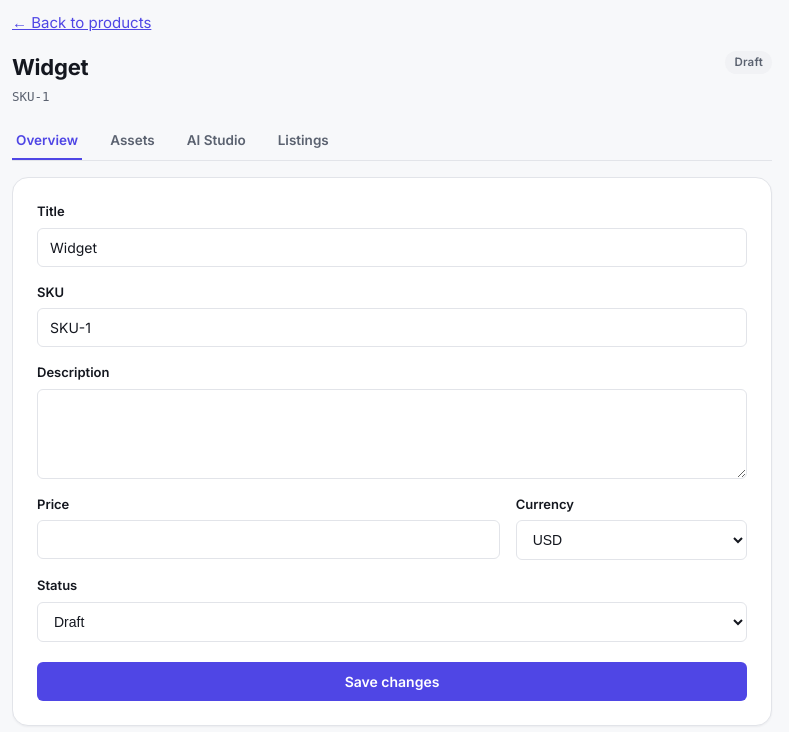
Test case: ProductDetailPage › shows the Listings panel with a connect action when there are no connections
Expected: the heading "Widget" is shown, 12,50 -> 88,84
Click the button "Listings". click: point(303, 141)
box: 274,122 -> 333,160
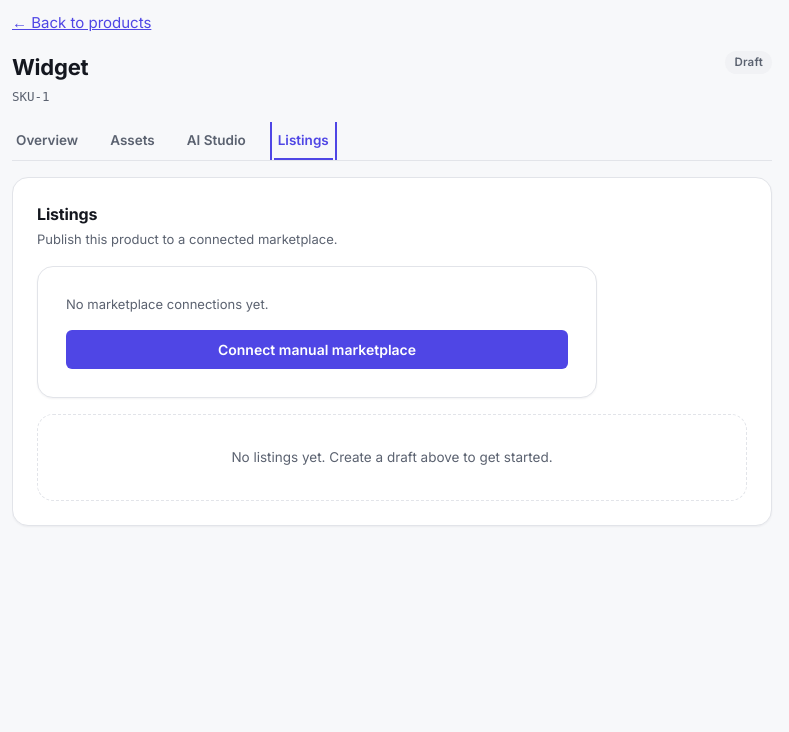
Result: the heading "Listings" is shown at 37,204 -> 97,224
Result: the button "Connect manual marketplace" is shown at 66,330 -> 568,369
